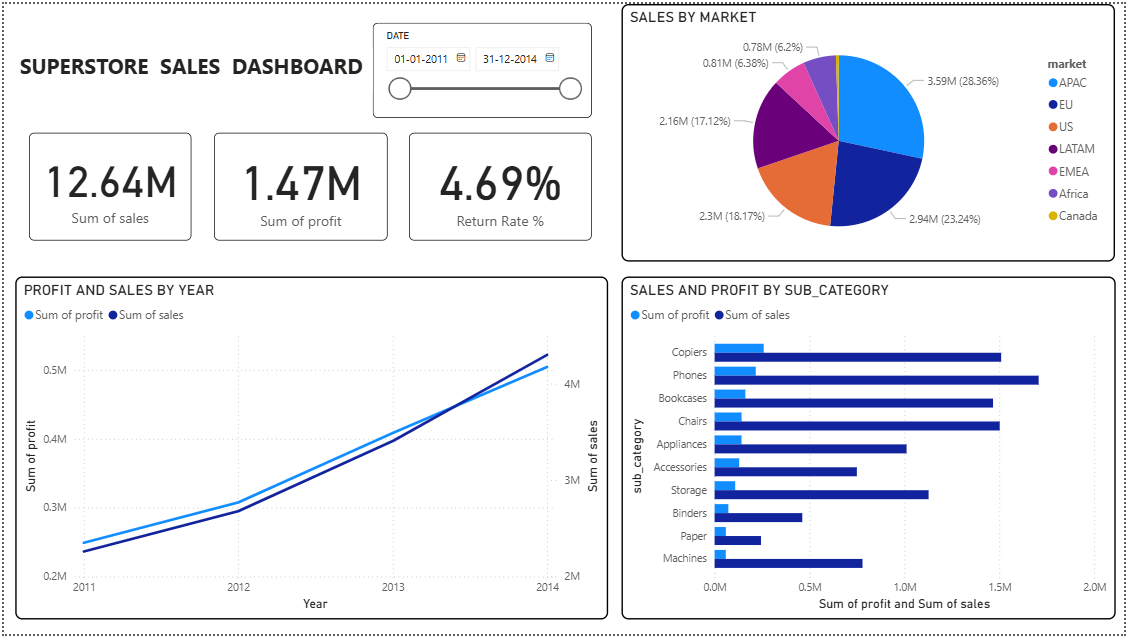

The page's visual inventory and layout, read from the dashboard file:
{"tool":"powerbi","page":{"name":"Page 1","canvas":[1280,720],"ordinal":0},"visuals":[{"type":"clusteredBarChart","title":"SALES AND PROFIT BY SUB_CATEGORY","fields":{"Y":["Sum(Orders.profit)","Sum(Orders.sales)"],"Category":["Orders.sub_category"]},"box":[705.3,311,564.8,391.8],"z":0},{"type":"lineChart","title":"PROFIT AND SALES BY YEAR","fields":{"Y":["Sum(Orders.profit)"],"Y2":["Sum(Orders.sales)"],"Category":["Orders.order_date.Variation.Date Hierarchy.Year"]},"box":[12.4,311,678,391.8],"z":1000},{"type":"card","fields":{"Values":["Sum(Orders.sales)"]},"box":[28.6,147.1,185.7,122.9],"z":2000},{"type":"card","fields":{"Values":["Sum(Orders.profit)"]},"box":[240,147.1,198.6,122.9],"z":3000},{"type":"pieChart","title":"SALES BY MARKET","fields":{"Category":["Orders.market"],"Y":["Sum(Orders.sales)"]},"box":[705.7,0,564.3,294.3],"z":4000},{"type":"card","fields":{"Values":["Orders.Return Rate %"]},"box":[462.9,147.1,208.6,122.9],"z":5000},{"type":"slicer","fields":{"Values":["Orders.order_date"]},"box":[421.4,21.4,250,108.6],"z":6000},{"type":"textbox","box":[12.9,50,408.6,50],"z":7000}]}

Visuals, with their boxes in screenshot pixels (x1, y1, x2, y2), scaled from the page's 1280x720 canvas onto the 1127x641 screenshot:
"SALES AND PROFIT BY SUB_CATEGORY" clusteredBarChart: (621, 277, 1118, 626)
"PROFIT AND SALES BY YEAR" lineChart: (11, 277, 608, 626)
card - Sum(Orders.sales): (25, 131, 189, 240)
card - Sum(Orders.profit): (211, 131, 386, 240)
"SALES BY MARKET" pieChart: (621, 0, 1118, 262)
card - Orders.Return Rate %: (408, 131, 591, 240)
slicer - Orders.order_date: (371, 19, 591, 116)
textbox: (11, 45, 371, 89)
